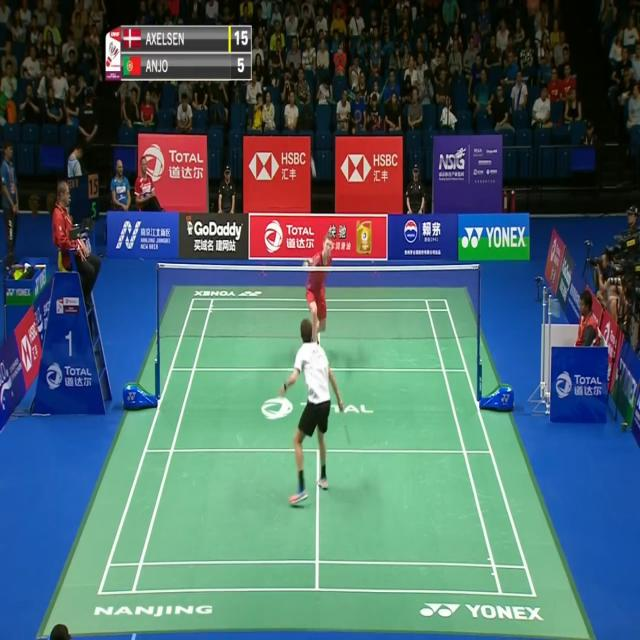Player1: (276, 316, 347, 509)
Player2: (300, 235, 337, 348)
